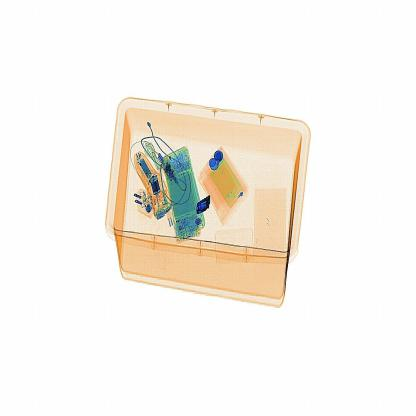knife: (192, 194, 216, 220)
